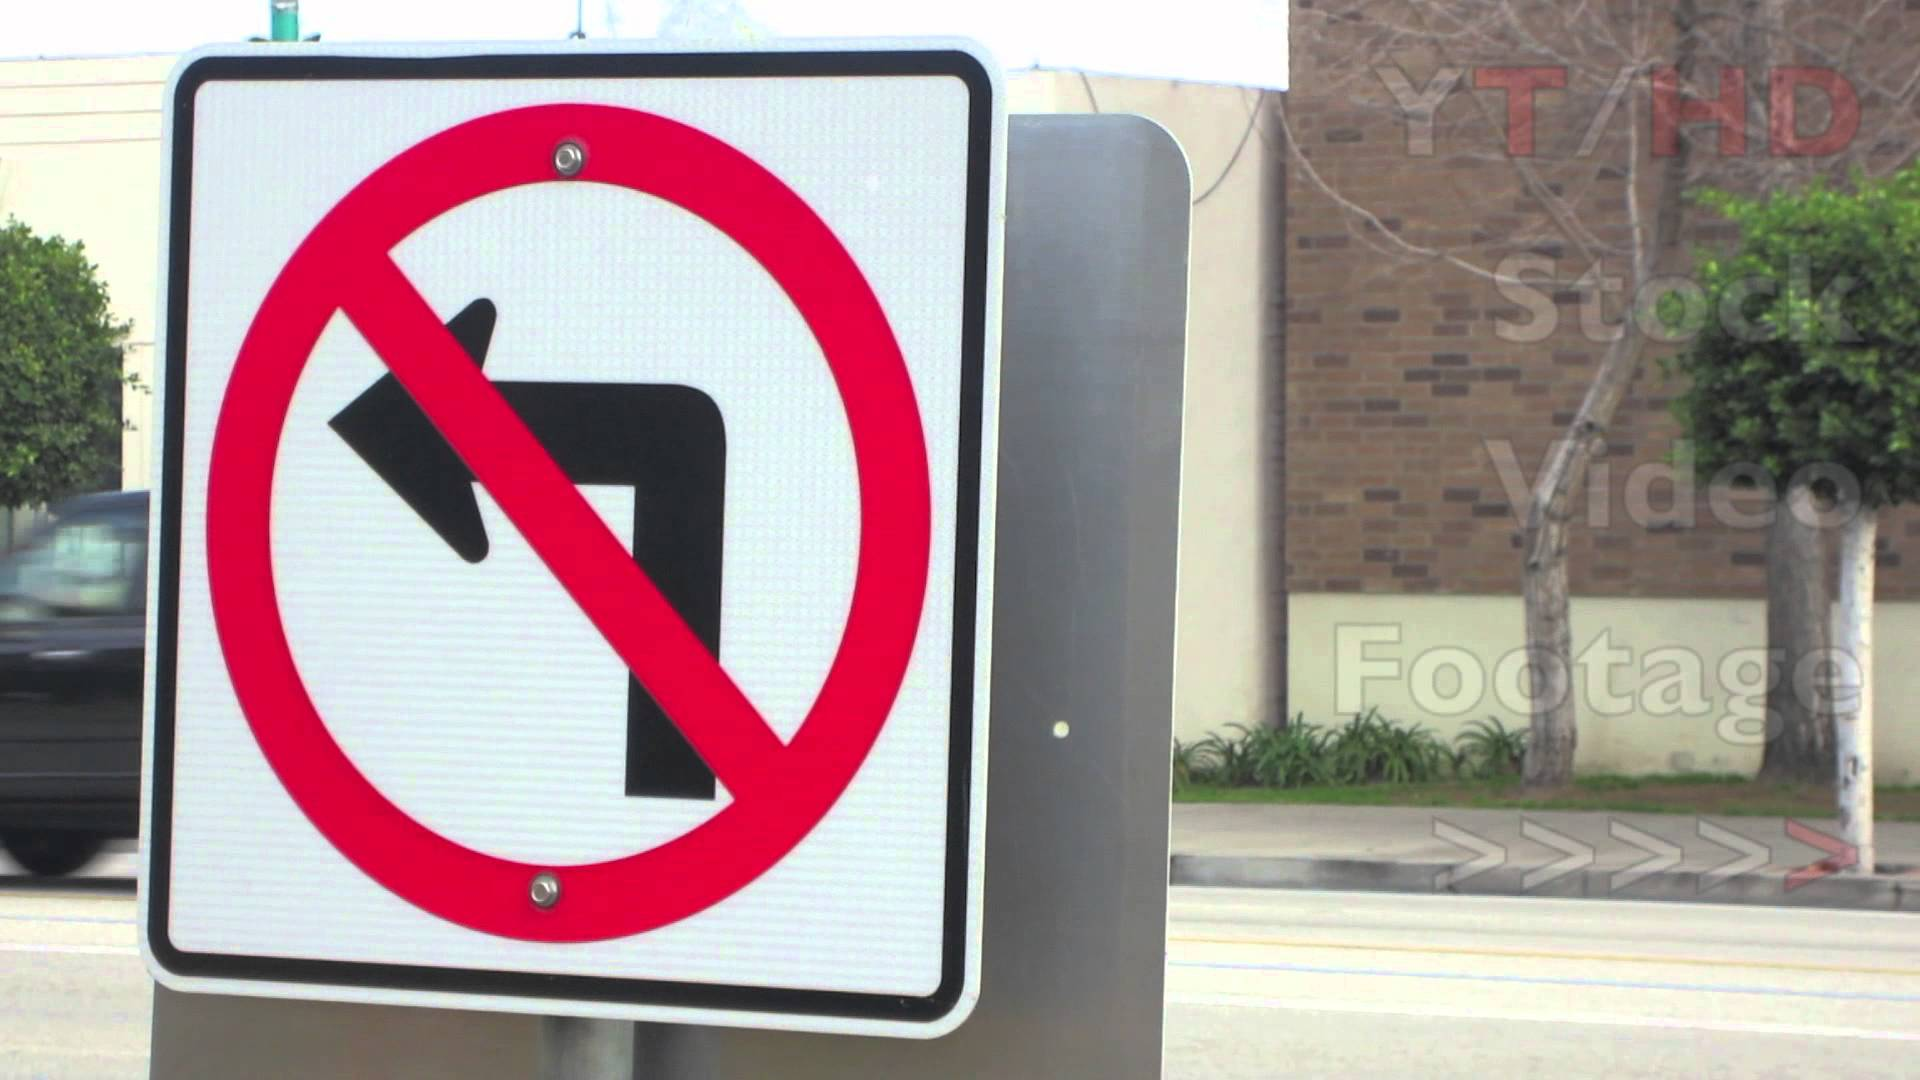No_left_turn: (206, 100, 930, 943)
